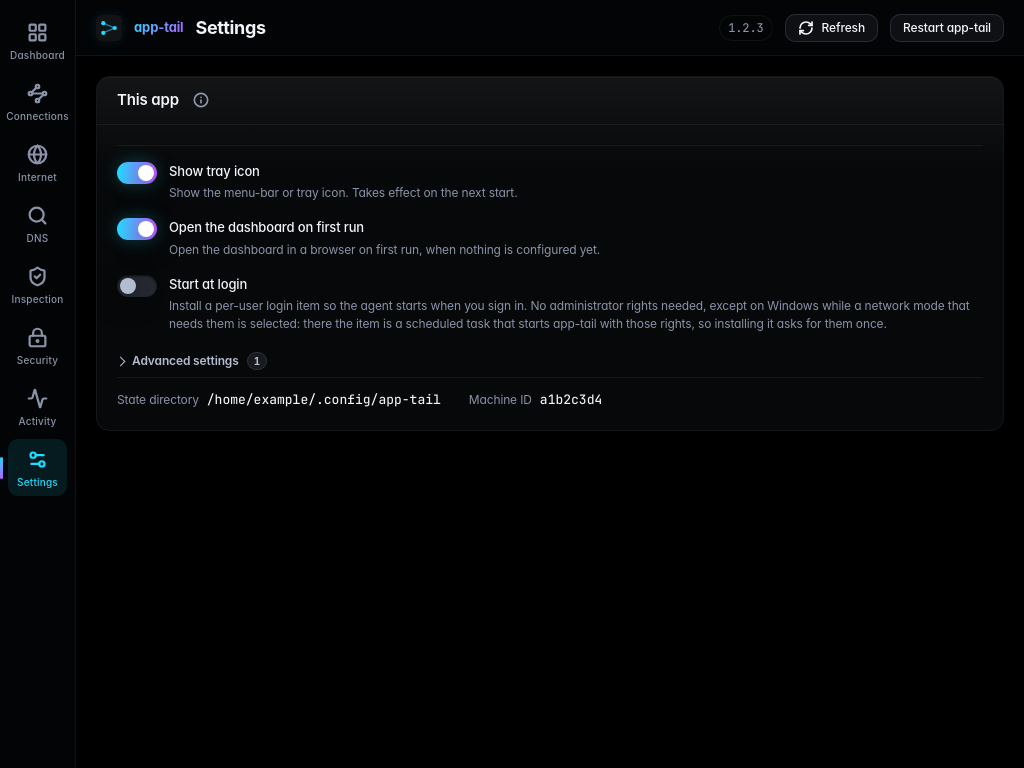
Scenario: a setting the app only reads when it starts › says the change waits for the next start, and offers one
Click the checkbox named "Show tray icon": (137, 172) [117,162,157,184]
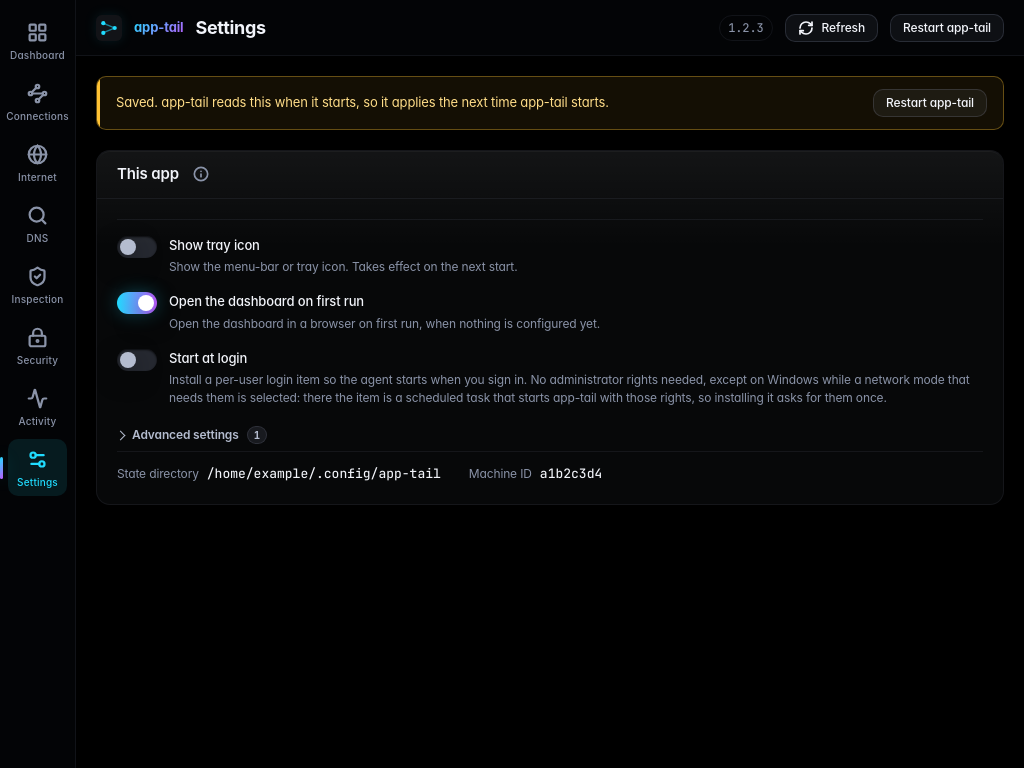
Check: the text "next time app-tail starts" is shown, box [116,94,609,110]
Check: the 2nd button "Restart app-tail" is shown, box [873,89,987,117]
